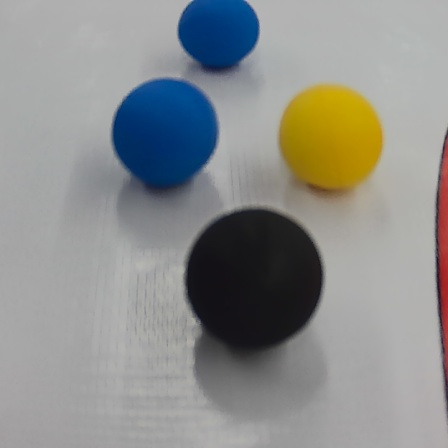black: (180, 205, 336, 349)
blue: (111, 75, 221, 190), (176, 0, 264, 66)
yellow: (278, 76, 385, 193)
